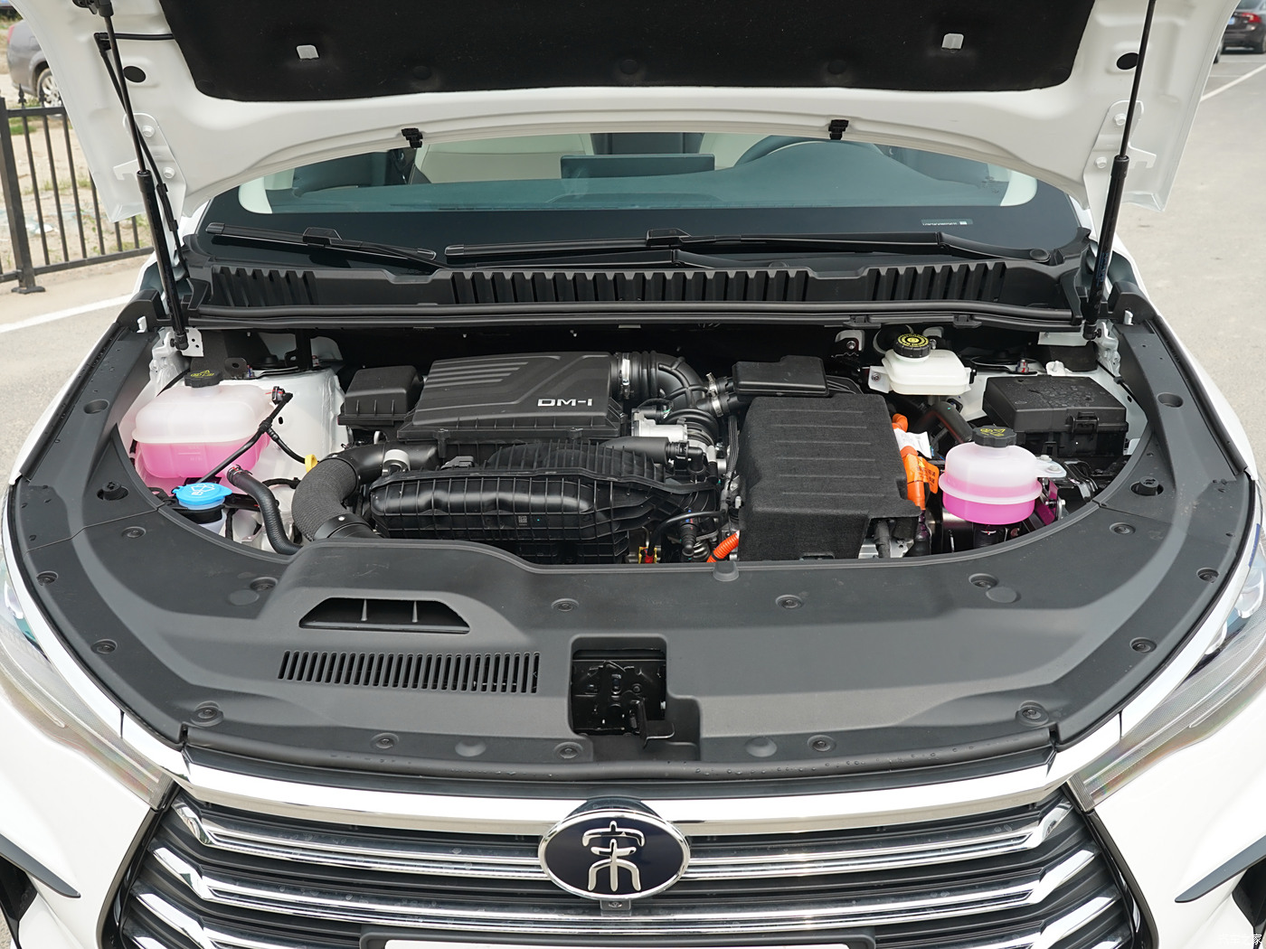BYD Song: (539, 812, 688, 899)
